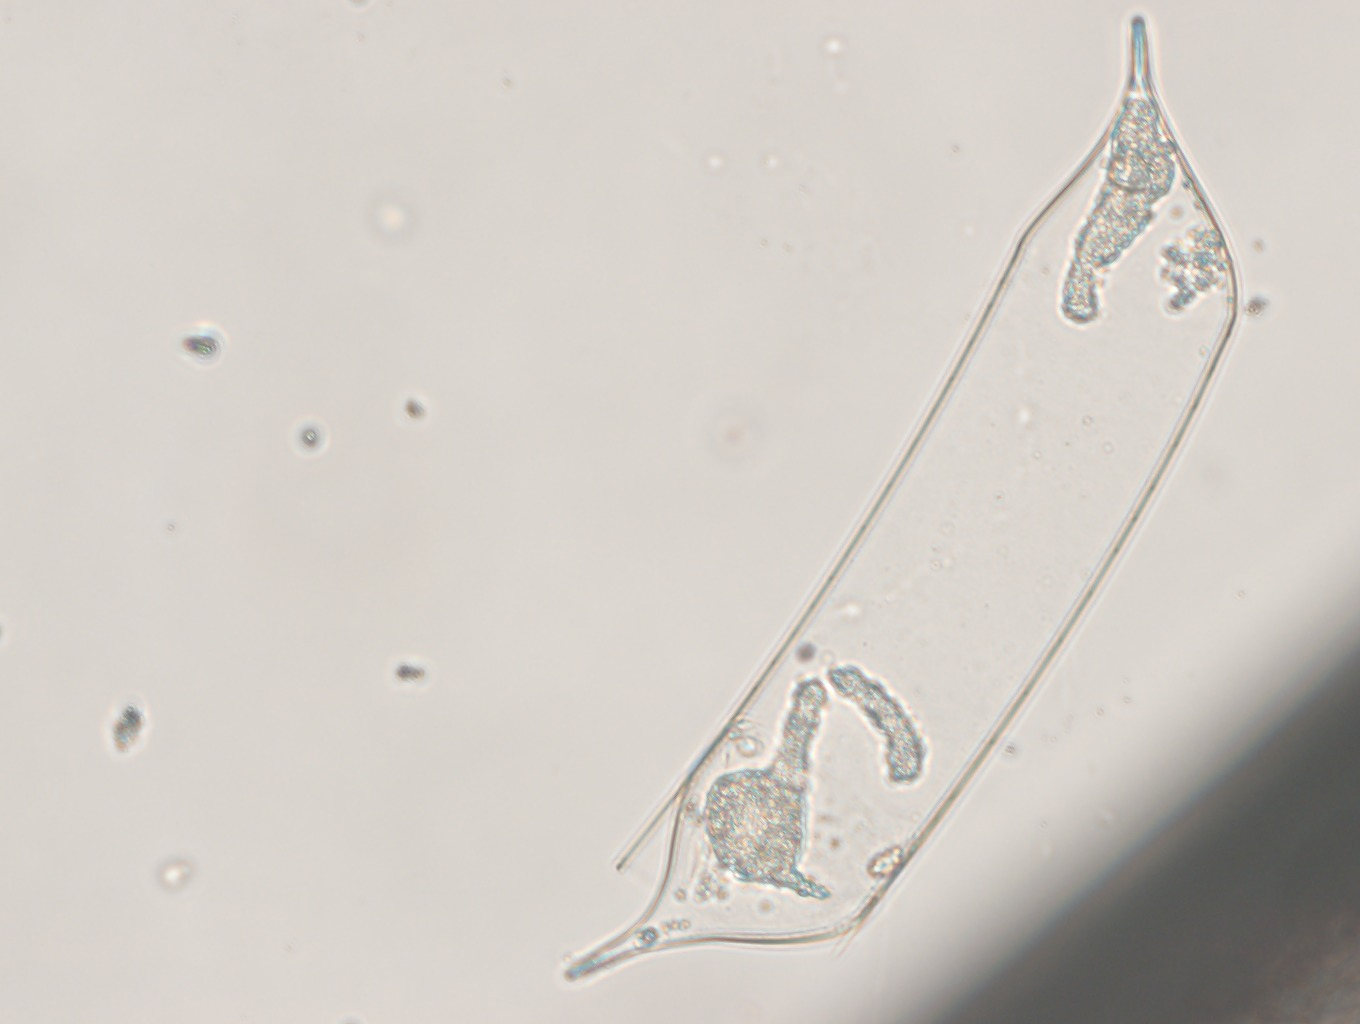rhizosolenia: (556, 17, 1248, 992)
